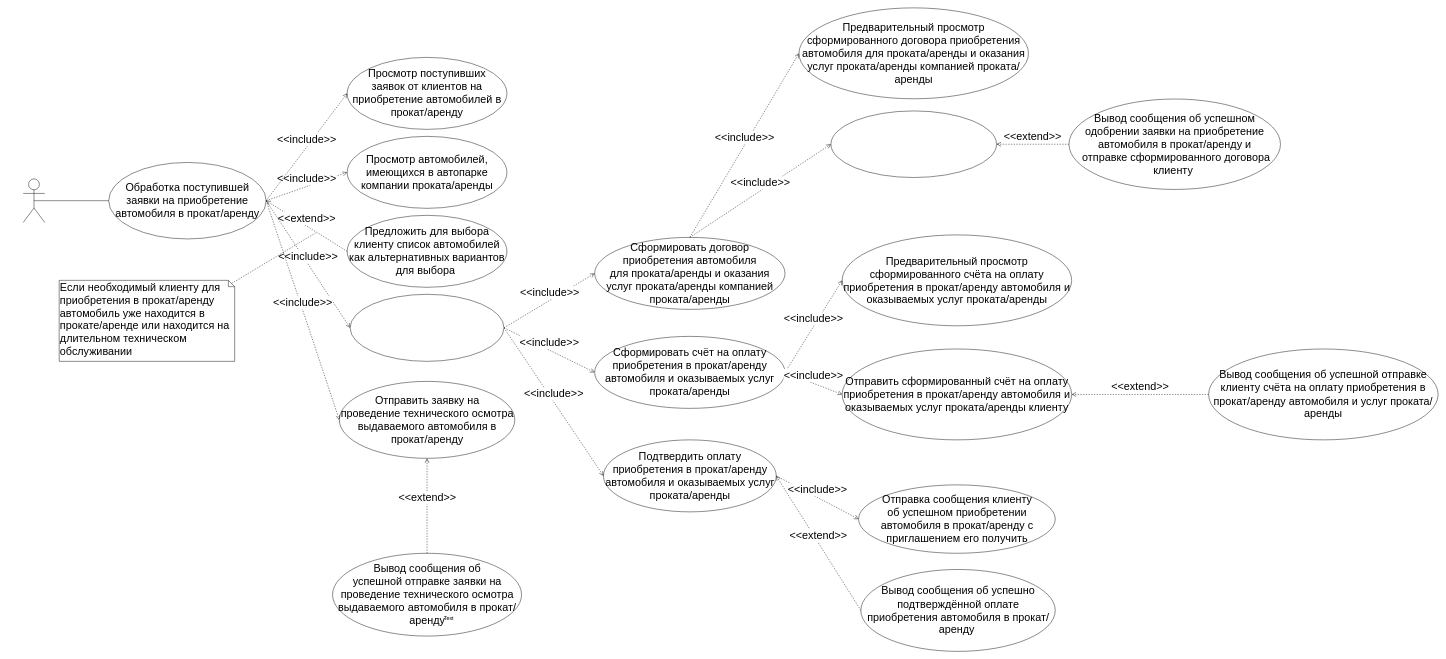
This 1446x659 diagram has some shape labels left out. Here are the shapes that lost their labels. From the top down, the centre of each, then its label:
At point (913, 144): "Отправить договор клиенту для заключения и оснакомления".
At point (34, 200): "Менеджер".
At point (427, 327): "Оформить приобретение автомобиля в прокат/аренду".
